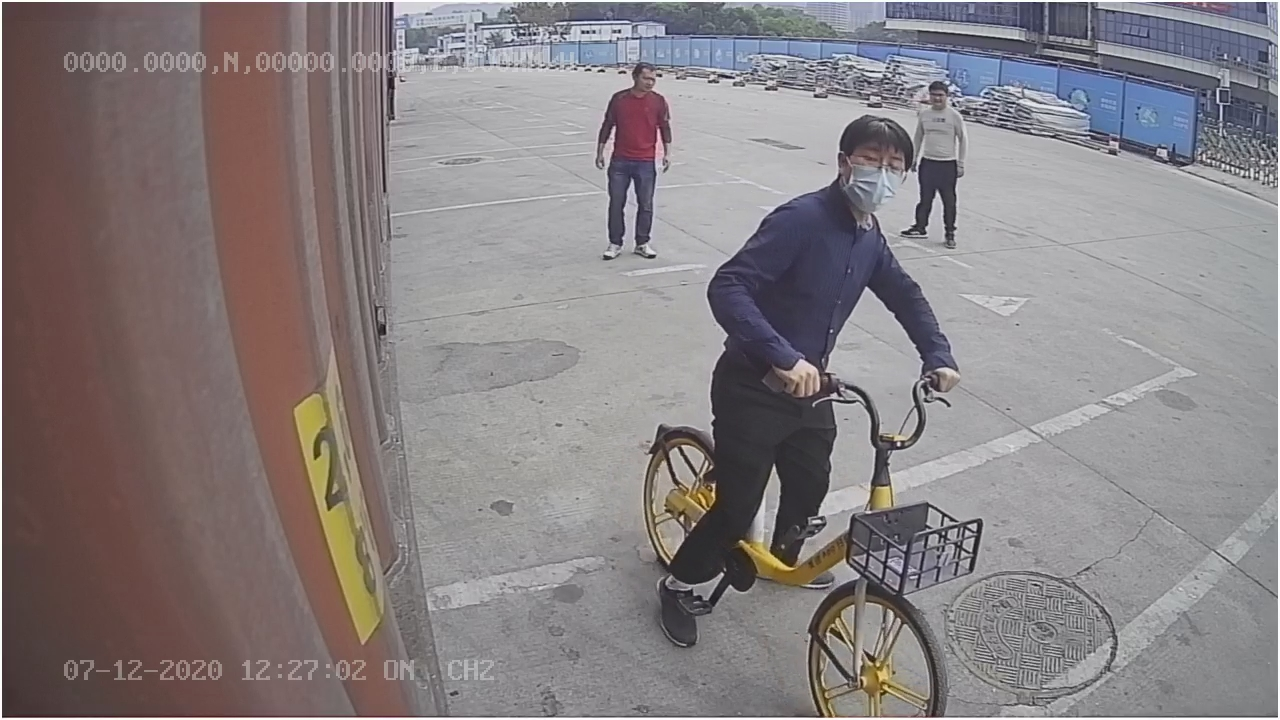person: (590, 58, 675, 267)
